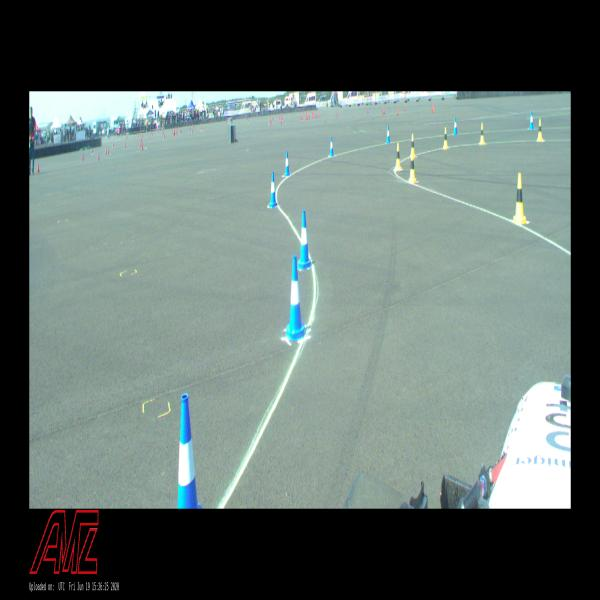blue_cone: (177, 393, 203, 508), (285, 255, 306, 340), (298, 211, 312, 270), (269, 172, 277, 208), (284, 151, 290, 176), (386, 126, 391, 143), (529, 112, 534, 129), (330, 136, 334, 157), (453, 118, 458, 134)
yellow_cone: (513, 173, 526, 224), (409, 153, 416, 183), (395, 144, 401, 170), (537, 119, 543, 141), (410, 134, 415, 158), (443, 128, 448, 149), (480, 124, 484, 144)
